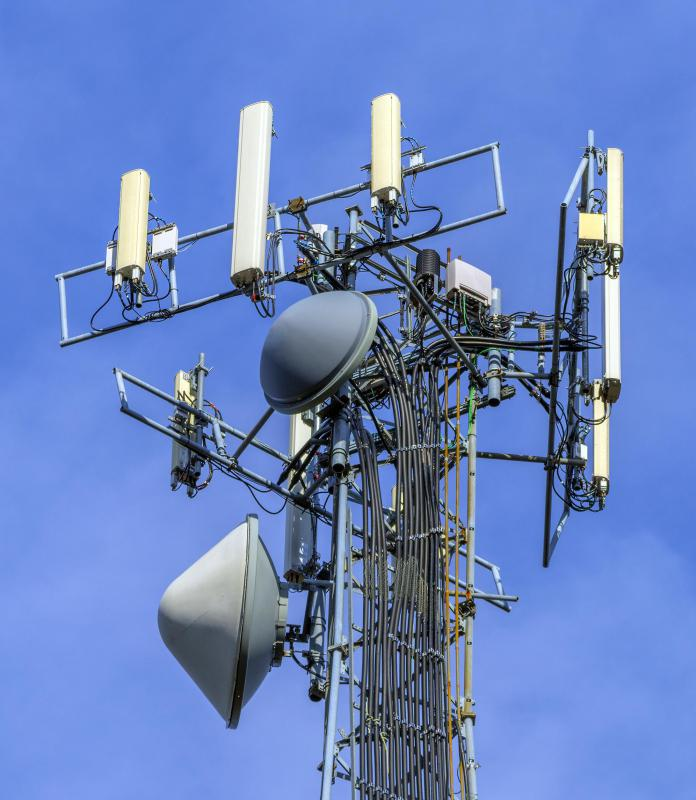sa: (230, 78, 274, 303), (553, 369, 620, 514), (155, 348, 214, 501), (581, 260, 638, 398), (108, 169, 160, 293), (589, 135, 636, 270), (363, 88, 408, 213)
